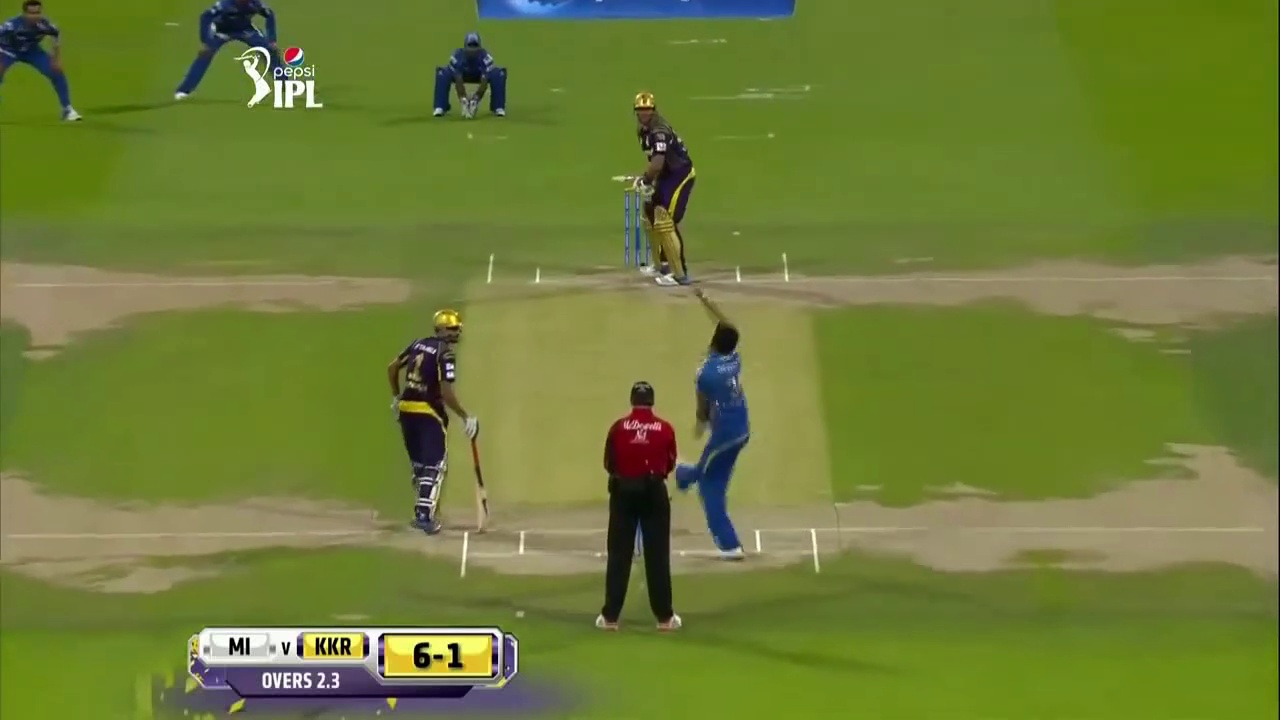bat: (466, 441, 491, 533)
